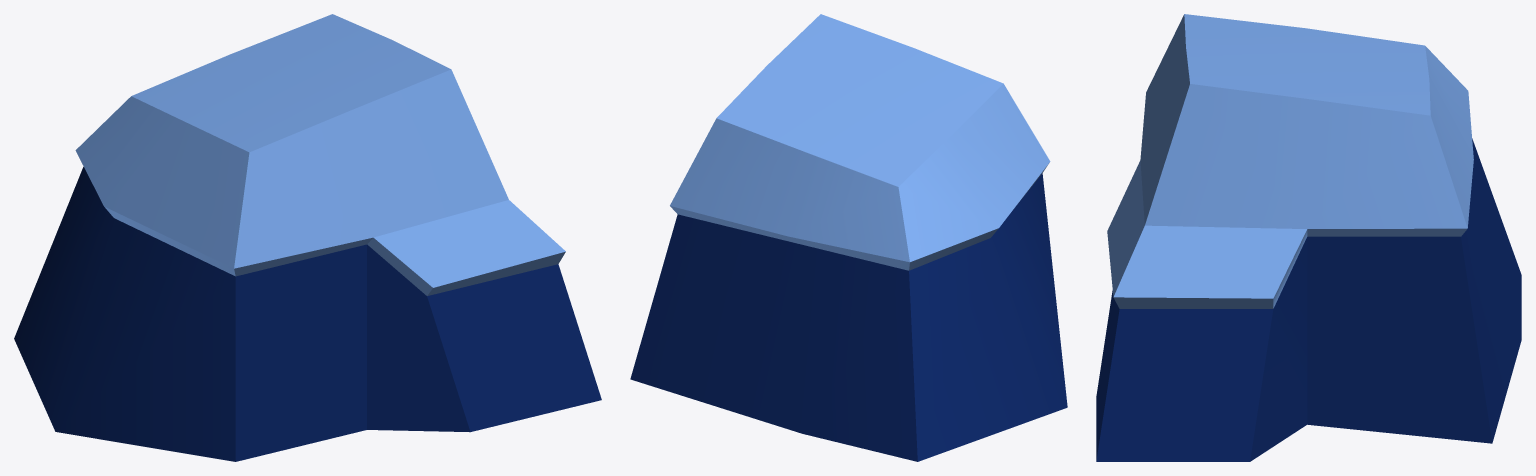
Rendered from Rock_2.fbx.
3 views of the same model, side by side, from view 1: azimuth 30°, elevation 25°; view 2: azimuth 150°, elevation 25°; view 3: azimuth 270°, elevation 25° (orthographic). The views are drawn at different scales.
Visible parts, largest first — view 1: Rock_2; view 2: Rock_2; view 3: Rock_2.
Part boxes in pixels (<box>): Rock_2: <box>14,14,601,461</box>; Rock_2: <box>630,14,1067,461</box>; Rock_2: <box>1096,14,1521,461</box>.
Bounding box in the file's own units: 10.85 × 7.55 × 8.92.
